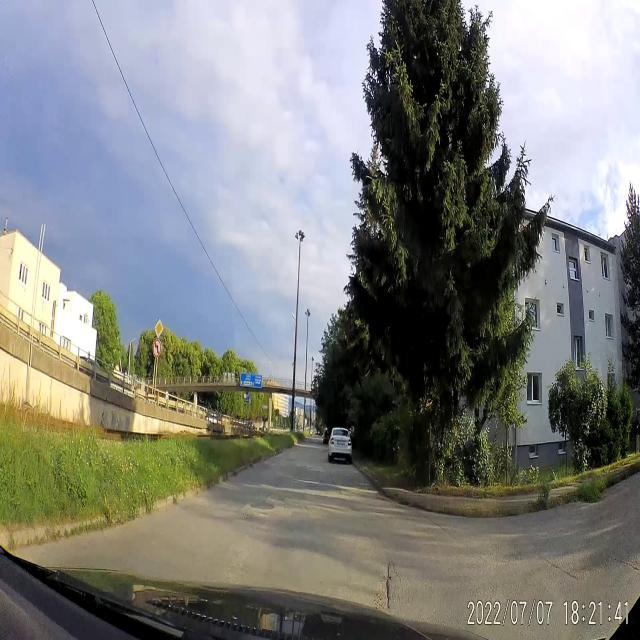Manhole: (246, 496, 278, 513)
Pothole: (381, 552, 398, 612)
